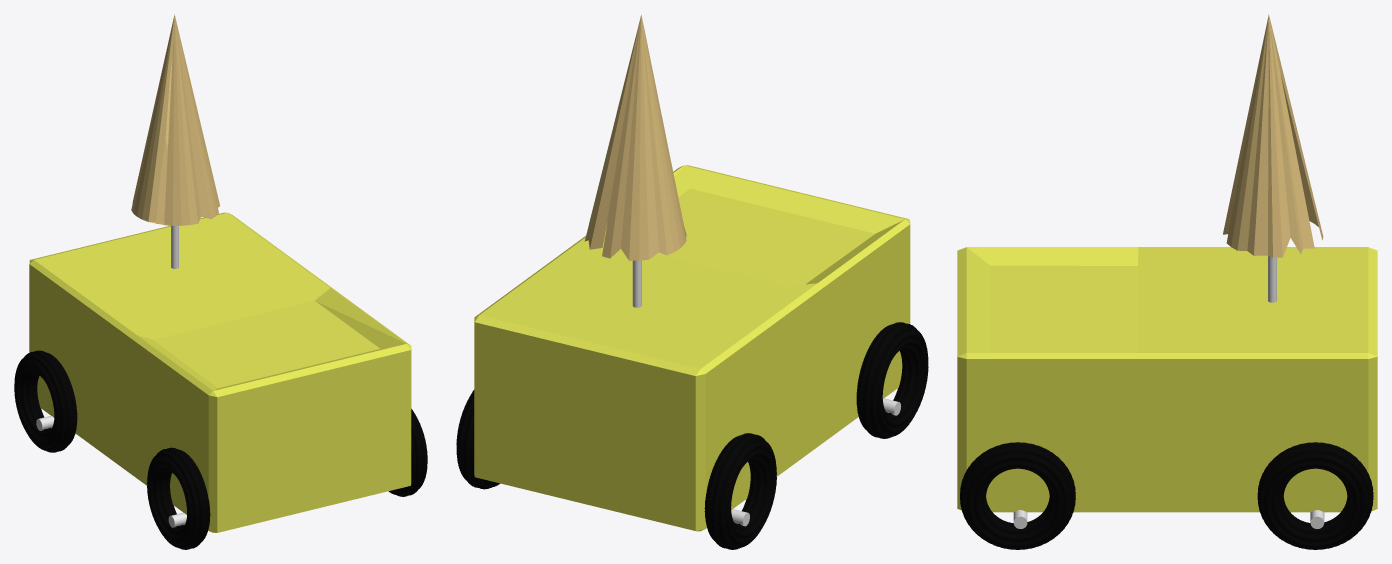
Rendered from cart1.fbx.
The picture shows the model from 3 angles, left to right: view 1: azimuth 30°, elevation 25°; view 2: azimuth 150°, elevation 25°; view 3: azimuth 270°, elevation 25°; orthographic projection. The views are drawn at different scales.
Parts seen in each view (by area): view 1: Cone.001; view 2: Cone.001; view 3: Cone.001.
Part boxes in pixels (x1,y1,x2,y2): Cone.001: (14, 14, 427, 549); Cone.001: (456, 15, 928, 549); Cone.001: (957, 14, 1377, 549).
Size of the model in its own units: 1044 by 1781 by 1430.
